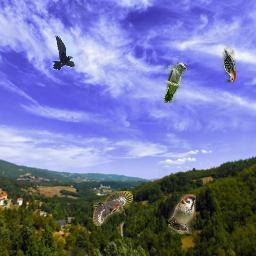Crow: (53, 34, 75, 70)
Cuckoo: (164, 63, 187, 103)
Sparrow: (168, 194, 196, 234)
Woodpecker: (93, 191, 133, 226), (217, 43, 236, 83)
